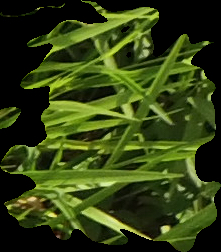grass: (1, 1, 220, 250)
